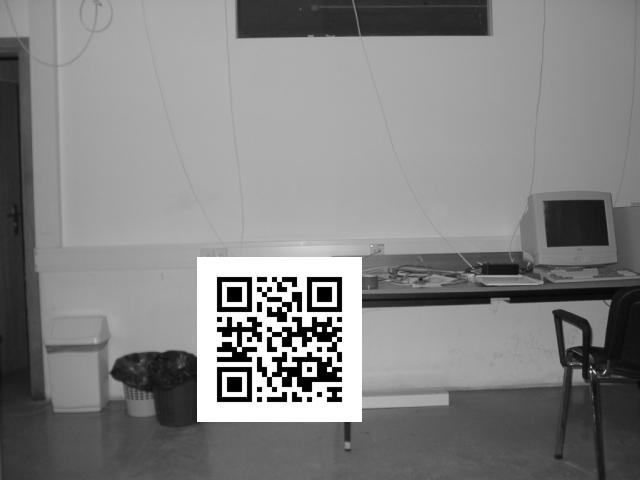qr_code: (196, 255, 361, 422)
